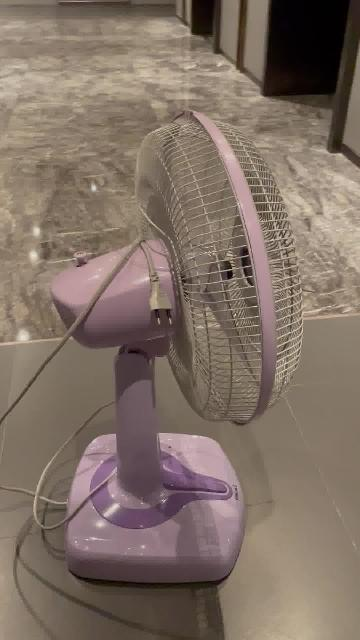Fan: (51, 110, 303, 585)
